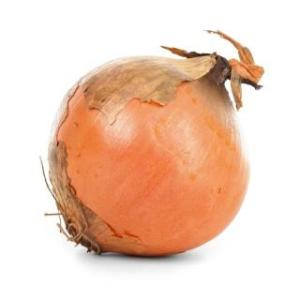onion: (48, 30, 264, 258)
